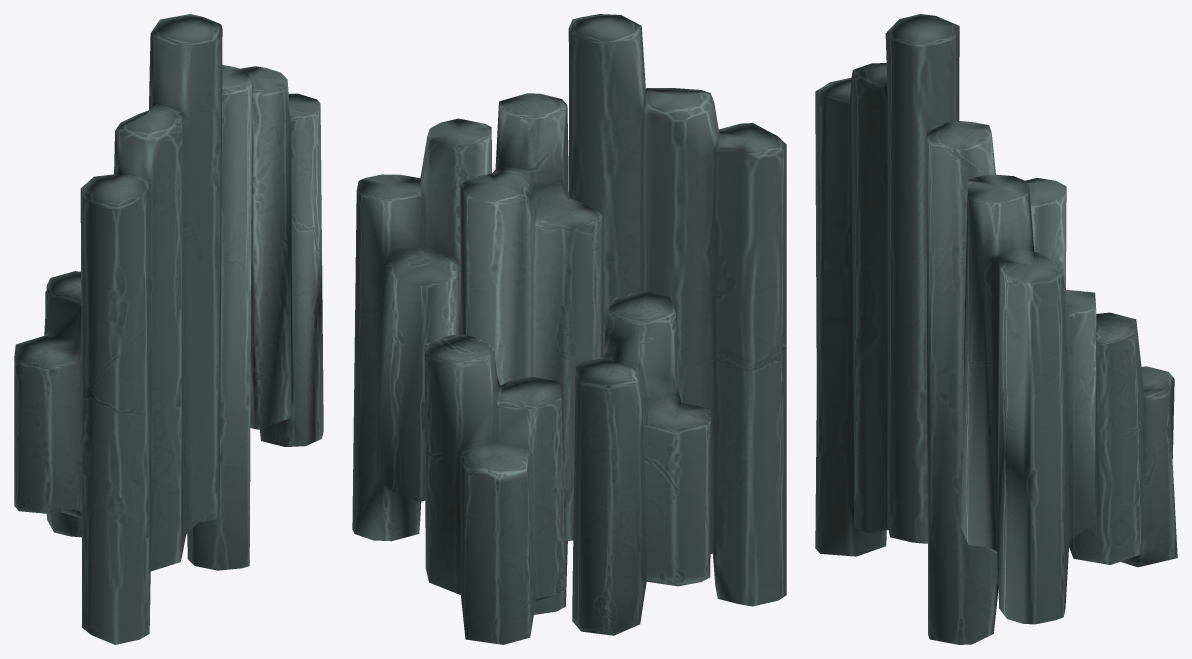
File: CausewayRocks_LOD1.fbx
3 views of the same model, side by side, from view 1: azimuth 30°, elevation 25°; view 2: azimuth 150°, elevation 25°; view 3: azimuth 270°, elevation 25° (orthographic). The views are drawn at different scales.
Visible parts, largest first — view 1: group2_lod1, group4_lod1, group3_lod1, group5_lod1; view 2: group2_lod1, group5_lod1, group1_lod1, group4_lod1, group3_lod1; view 3: group2_lod1, group4_lod1, group3_lod1, group1_lod1.
Part boxes in pixels (<box>): group2_lod1: <box>80,14,222,644</box>; group4_lod1: <box>240,66,323,446</box>; group3_lod1: <box>187,65,251,570</box>; group5_lod1: <box>14,271,82,537</box>; group2_lod1: <box>568,14,786,606</box>; group5_lod1: <box>572,291,711,635</box>; group1_lod1: <box>424,334,565,644</box>; group4_lod1: <box>352,118,492,541</box>; group3_lod1: <box>460,93,603,614</box>; group2_lod1: <box>815,14,959,556</box>; group4_lod1: <box>961,174,1100,624</box>; group3_lod1: <box>926,120,1066,644</box>; group1_lod1: <box>1069,312,1177,567</box>.
Bounding box in the file's own units: 27.79 × 45.76 × 25.83.
